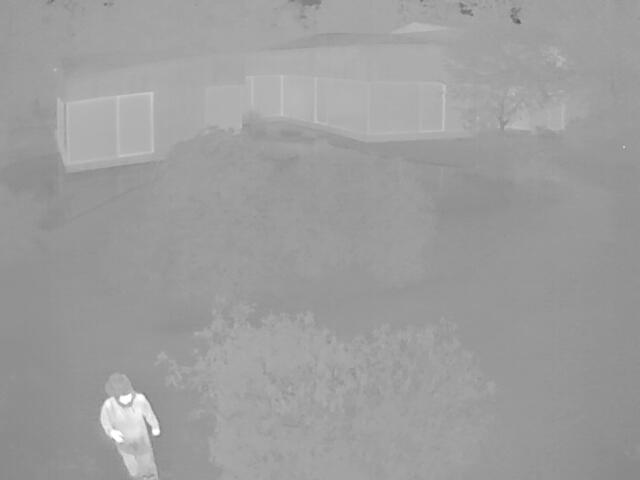person: (99, 370, 161, 476)
